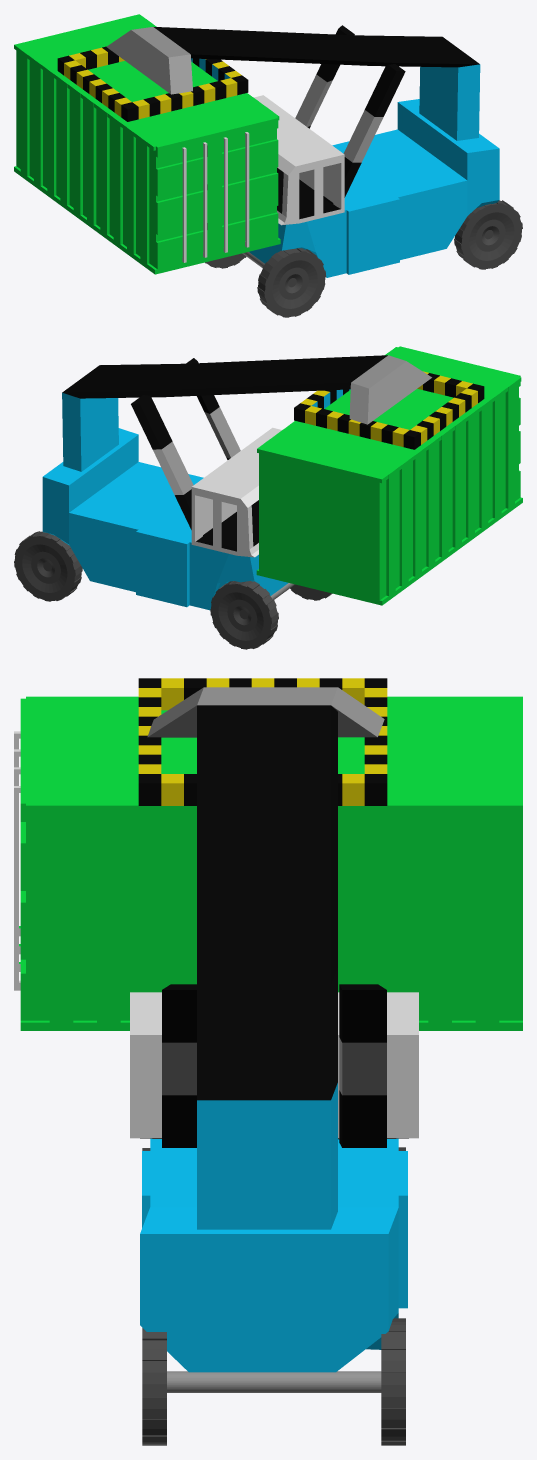
File: reach-stacker.glb
3 renders of one model, top to bottom at view 1: azimuth 30°, elevation 25°; view 2: azimuth 150°, elevation 25°; view 3: azimuth 270°, elevation 25°, orthographic. The views are drawn at different scales.
Parts seen in each view (by area): view 1: Cube, Cube.001; view 2: Cube, Cube.001; view 3: Cube, Cube.001.
Part boxes in pixels (box(x1,y1,x2,y2)): Cube: box(57, 25, 522, 317); Cube.001: box(14, 14, 280, 274); Cube: box(14, 355, 484, 649); Cube.001: box(256, 346, 522, 605); Cube: box(130, 678, 418, 1445); Cube.001: box(14, 696, 522, 1030).
Size of the model in its own units: 66.52 by 43.22 by 40.96.
